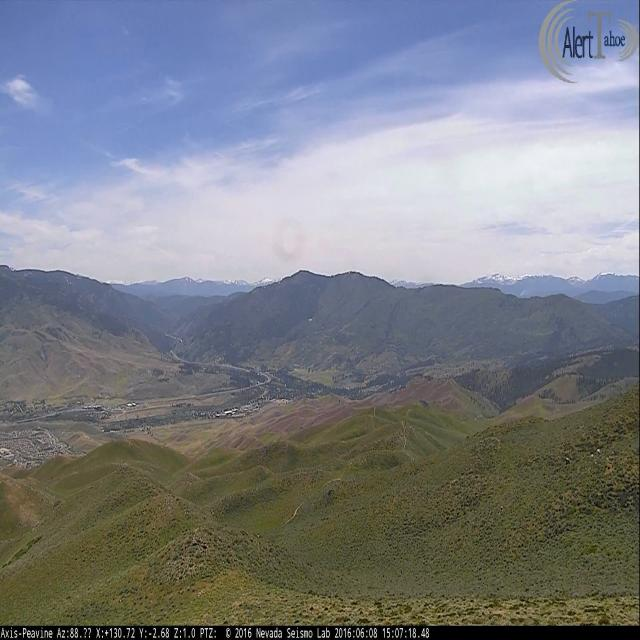smoke: (519, 286, 526, 296)
